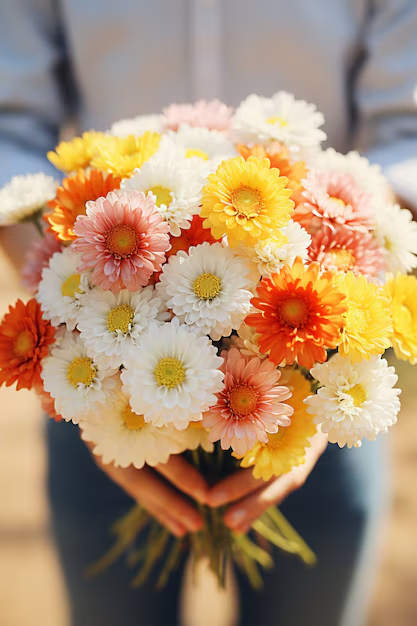Orange: (252, 256, 347, 368), (43, 170, 122, 246), (0, 294, 55, 390)
Pink: (76, 191, 171, 294), (201, 350, 293, 450), (305, 165, 379, 231)
White: (122, 322, 223, 427), (76, 378, 184, 470), (155, 242, 254, 339), (309, 348, 401, 449), (74, 279, 170, 372), (39, 333, 119, 425), (124, 156, 204, 237), (35, 250, 100, 325)
Yellow: (231, 367, 321, 478), (203, 159, 294, 249), (319, 270, 393, 362), (89, 128, 163, 171), (384, 272, 416, 363)
